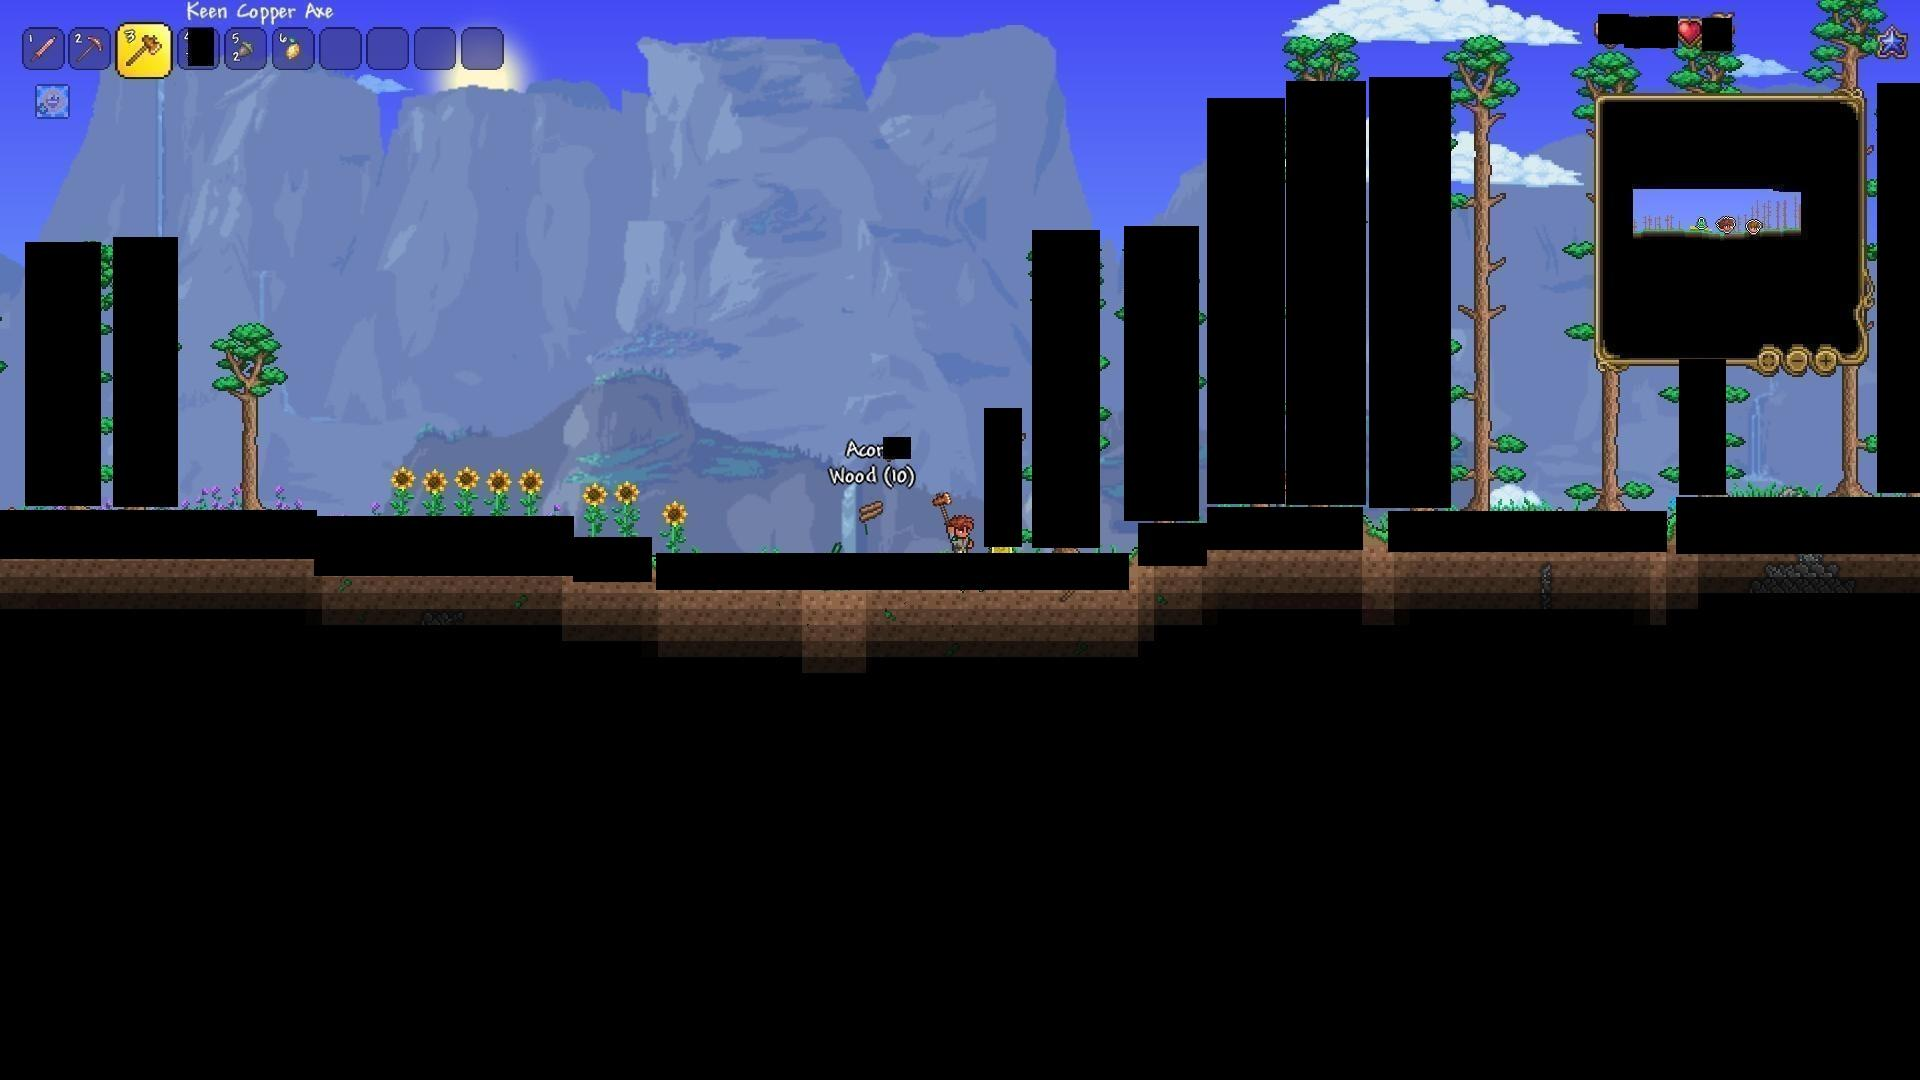heart: (1676, 17, 1704, 49)
tree: (1451, 55, 1530, 512), (210, 311, 286, 504), (1589, 363, 1627, 509)
wood: (856, 492, 887, 522)
